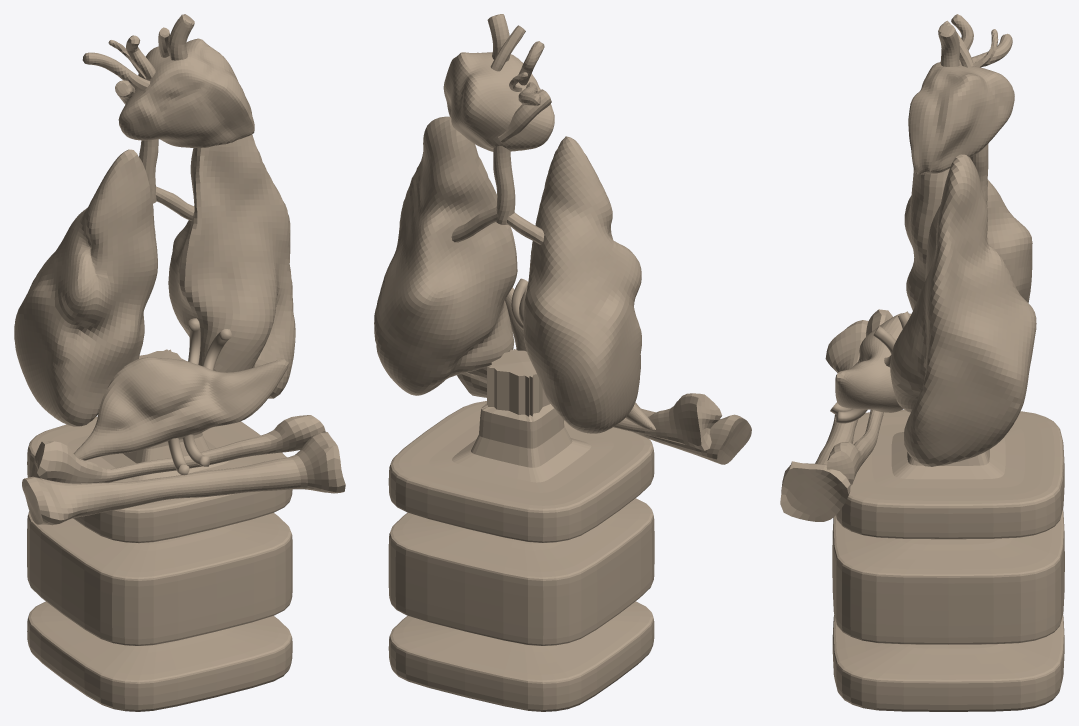
File: T_COMODIN.fbx
3 views of the same model, side by side, from view 1: azimuth 30°, elevation 25°; view 2: azimuth 150°, elevation 25°; view 3: azimuth 270°, elevation 25° (orthographic). The views are drawn at different scales.
Visible parts, largest first — view 1: BASE TOKEN.004; view 2: BASE TOKEN.004; view 3: BASE TOKEN.004.
Boxes of the visible parts, x1,y1,x2,y2 form: BASE TOKEN.004: [14, 14, 345, 711]; BASE TOKEN.004: [374, 14, 751, 711]; BASE TOKEN.004: [780, 14, 1064, 711].
Size of the model in its own units: 76.32 by 155 by 61.09.
